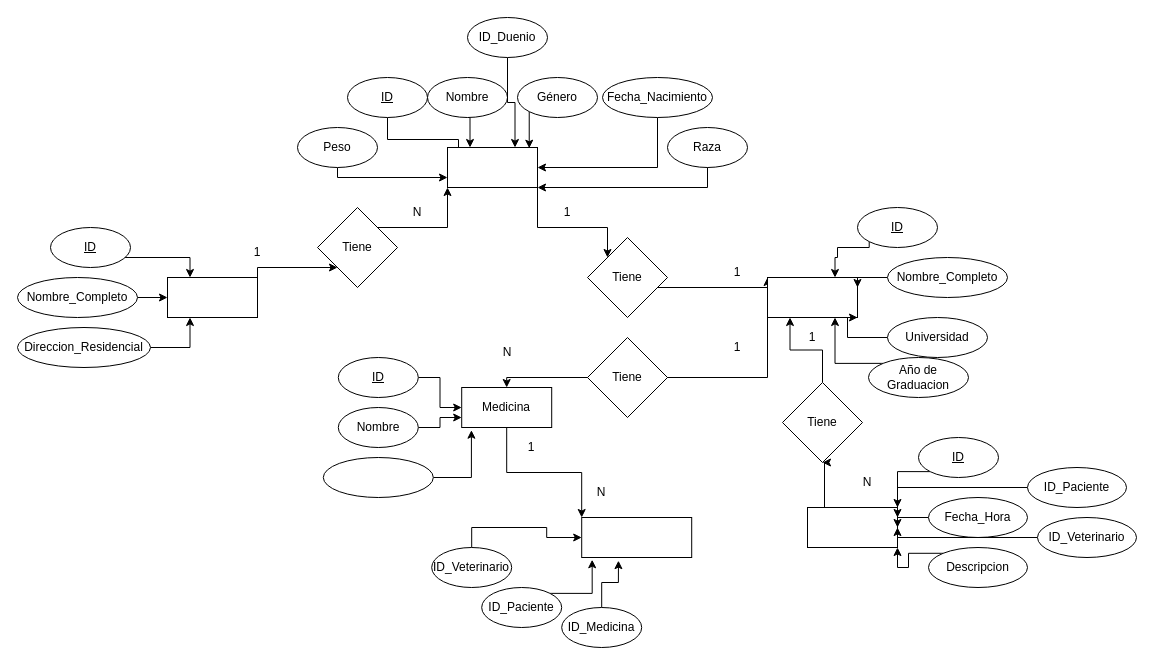
The diagram is 1154 pixels wide and 665 high, and some of its shapes have lost their labels. Each missing label, with the centre of its shape:
"Cita" belongs at pixel 852 527.
"Dueño" belongs at pixel 212 297.
"Fecha_Vencimiento" belongs at pixel 377 477.
"Medicina_Prescita" belongs at pixel 636 537.
"Paciente" belongs at pixel 492 167.
"Veterinario" belongs at pixel 812 297.
